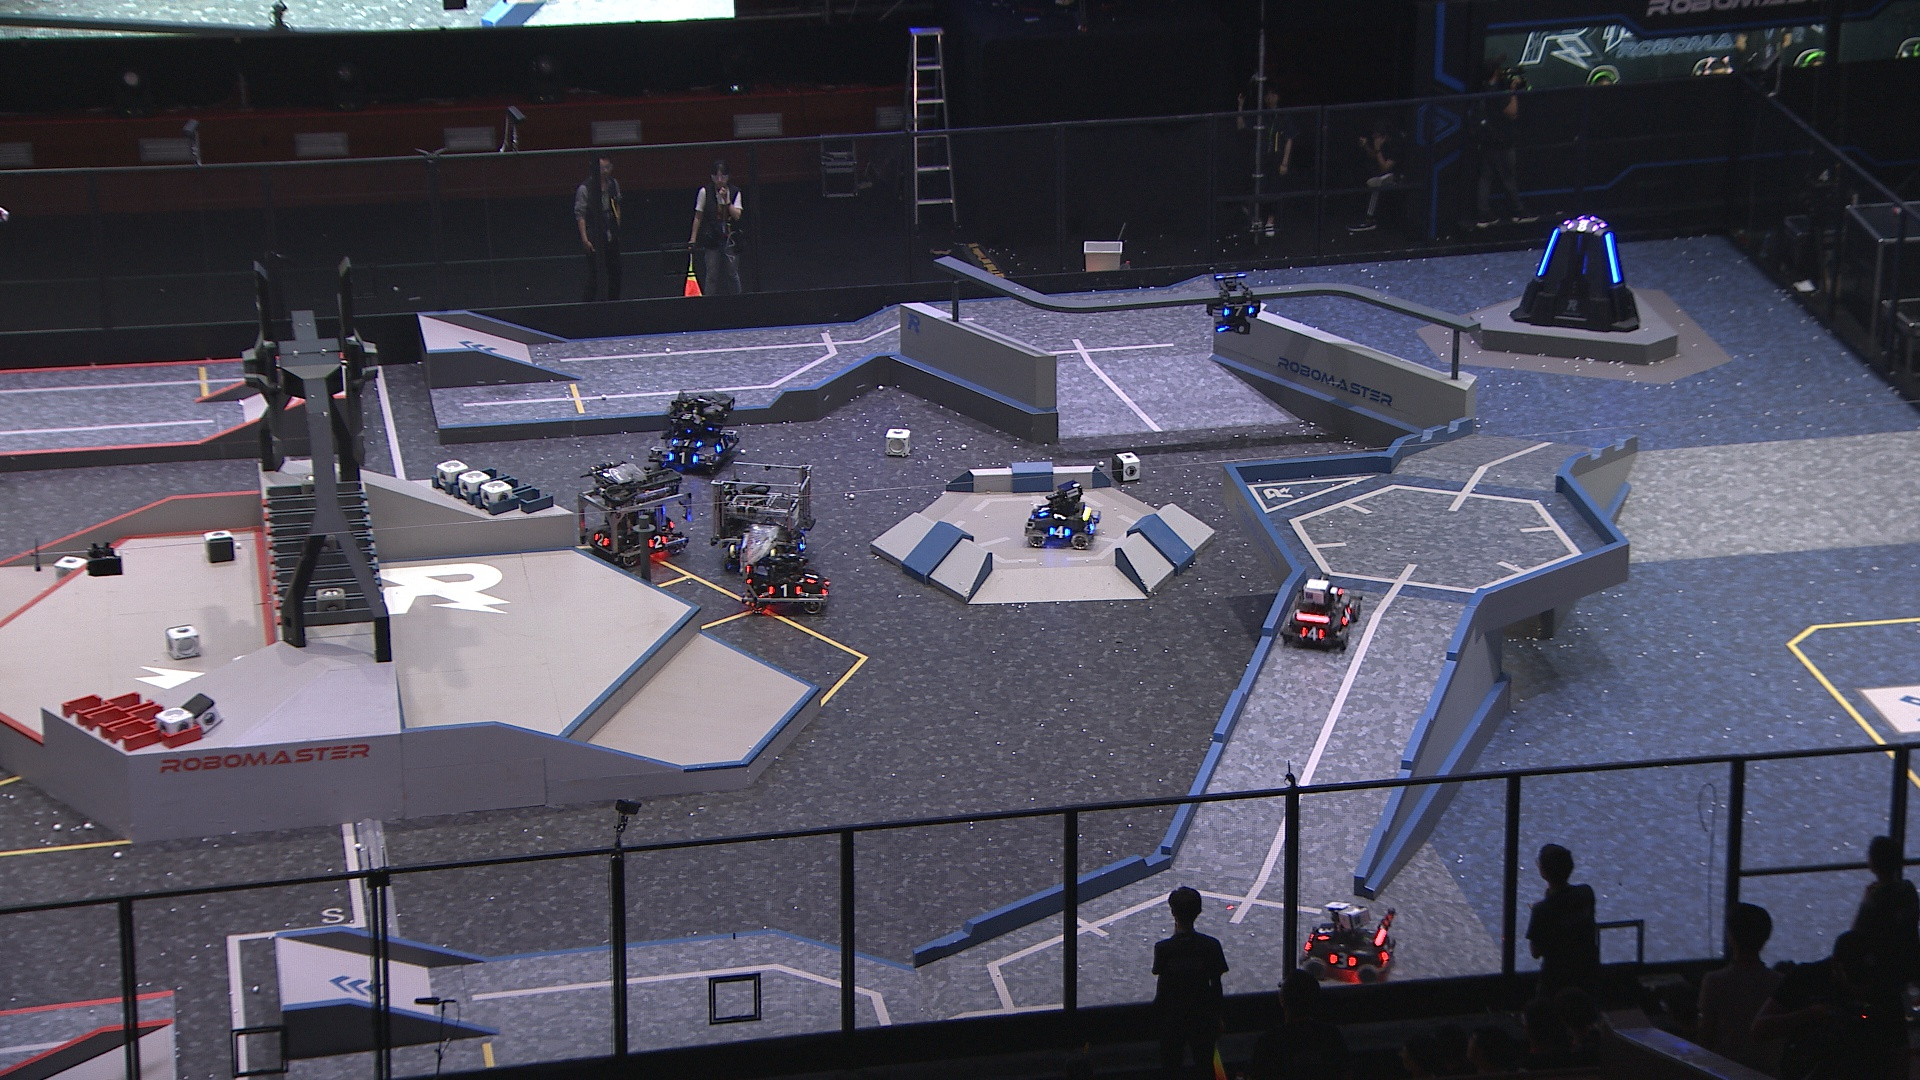armor: (1536, 225, 1557, 280), (1604, 232, 1623, 285), (1221, 302, 1255, 319), (1328, 949, 1357, 969), (767, 582, 802, 597), (666, 451, 699, 467), (1300, 624, 1325, 644), (670, 436, 704, 450), (1048, 524, 1073, 541), (1315, 924, 1335, 944), (803, 568, 822, 588), (646, 534, 667, 551), (593, 531, 612, 550), (1338, 605, 1354, 626), (1378, 942, 1393, 964), (795, 533, 811, 553), (713, 436, 731, 452), (1036, 504, 1054, 520), (1087, 520, 1097, 535)
base: (1506, 214, 1642, 334)
car: (572, 455, 694, 564), (709, 462, 814, 572), (646, 386, 746, 479), (737, 526, 831, 617), (1299, 902, 1396, 986), (1280, 578, 1362, 655), (1022, 476, 1100, 550)
ignore: (1564, 218, 1604, 233)
watcher: (1205, 266, 1263, 335)
